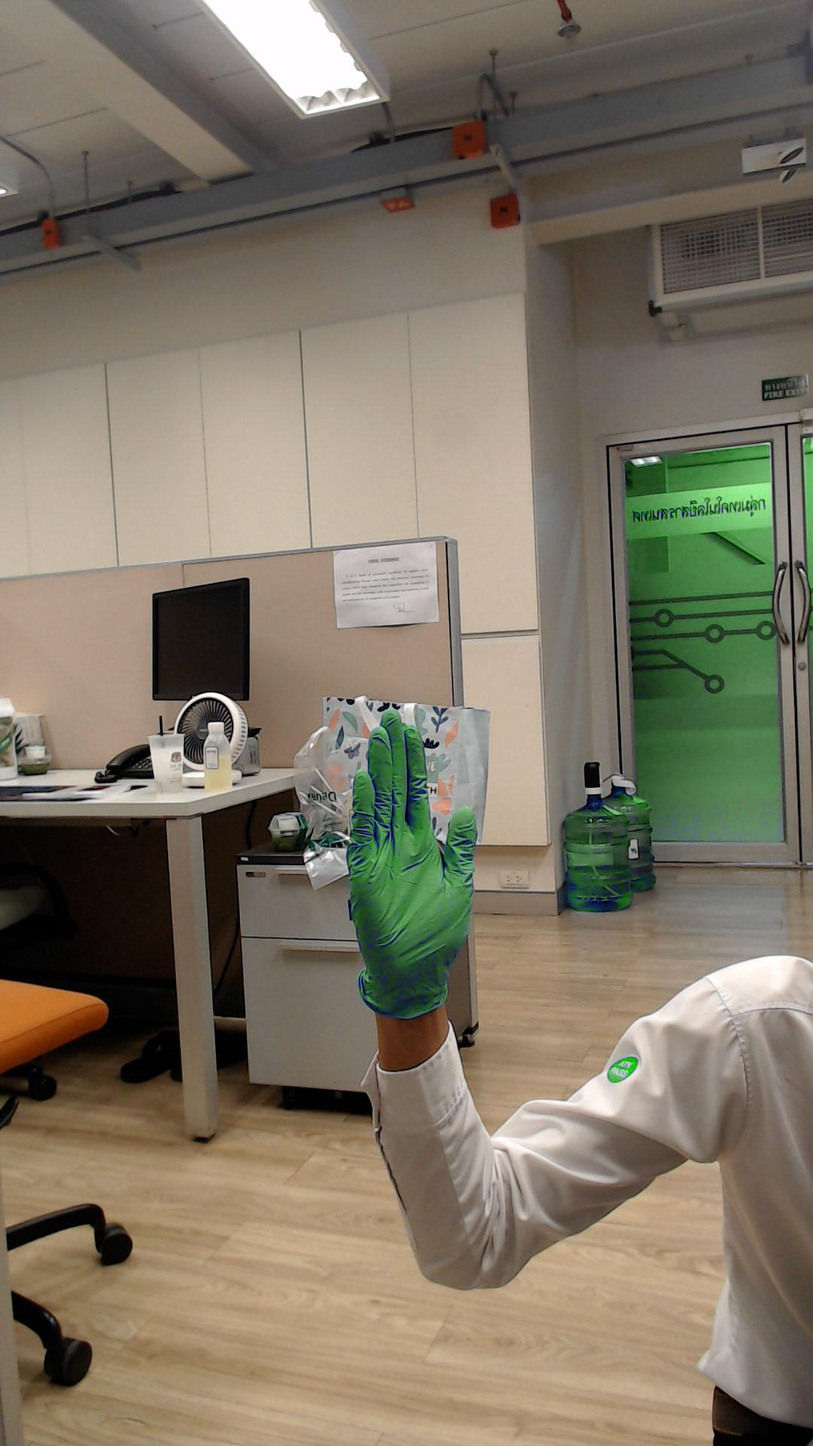gloves: (340, 700, 494, 968)
